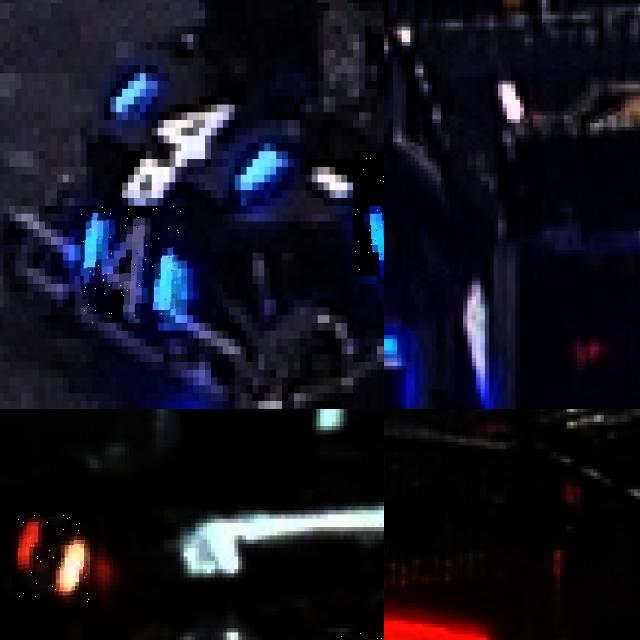B4: (81, 206, 181, 323), (353, 151, 384, 276)
Rs: (16, 514, 90, 603)
